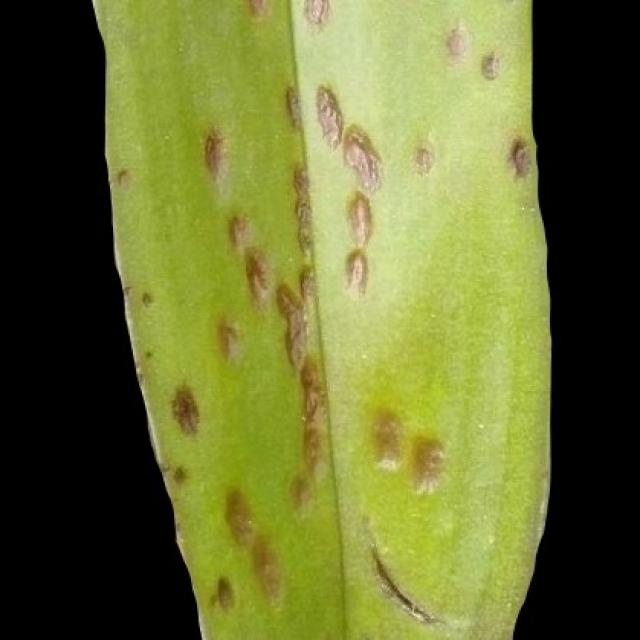mite: (163, 374, 457, 634), (162, 377, 451, 495), (249, 532, 283, 603), (220, 484, 254, 544), (209, 573, 235, 611), (202, 130, 223, 174), (478, 49, 501, 81)
spots: (79, 0, 554, 638)
